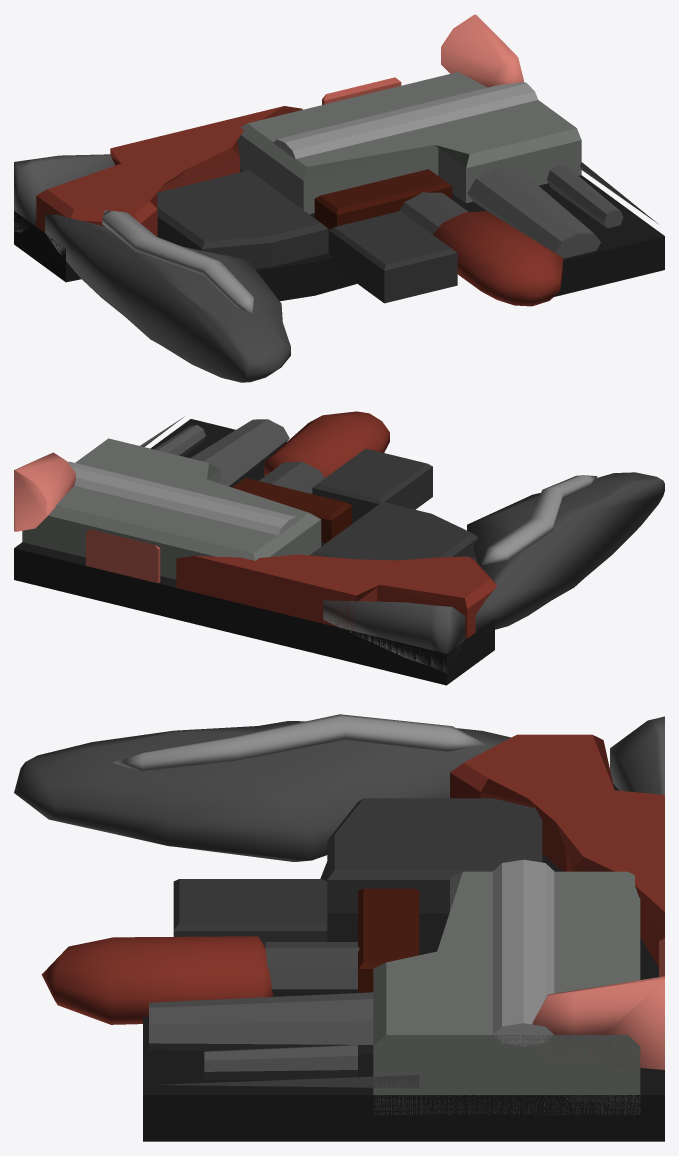
The model's file is newsh-caret-123.glb.
3 views of the same model, one above another, from view 1: azimuth 30°, elevation 25°; view 2: azimuth 150°, elevation 25°; view 3: azimuth 270°, elevation 25° (orthographic). The views are drawn at different scales.
Visible parts, largest first — view 1: newsh-caret-123; view 2: newsh-caret-123; view 3: newsh-caret-123.
Boxes of the visible parts, left/top/right/bottom form: newsh-caret-123: left=14, top=14, right=664, bottom=382; newsh-caret-123: left=14, top=411, right=664, bottom=685; newsh-caret-123: left=14, top=714, right=664, bottom=1141.
Bounding box in the file's own units: 2 × 0.4852 × 1.77.
